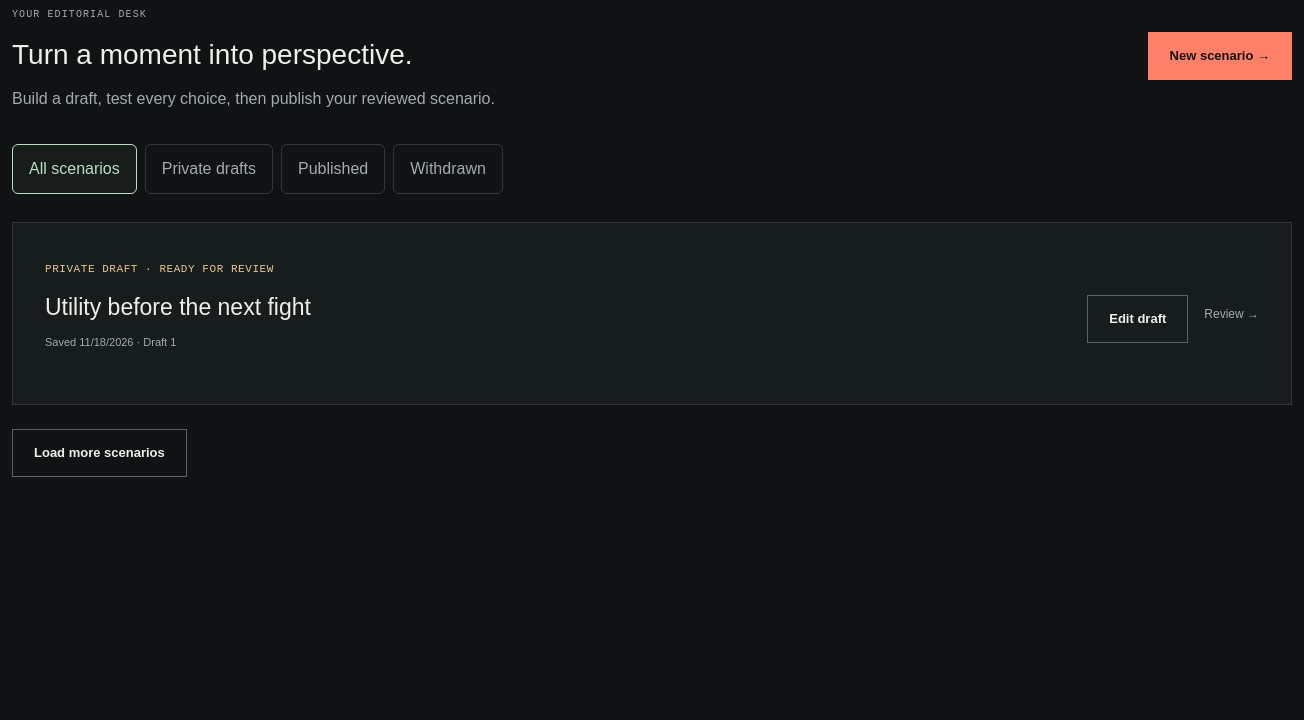
Test: creator dashboard › appends unique rows on pagination
Click the button "Load more scenarios" at (99, 453), box top-left (12, 429), bottom-right (187, 477)
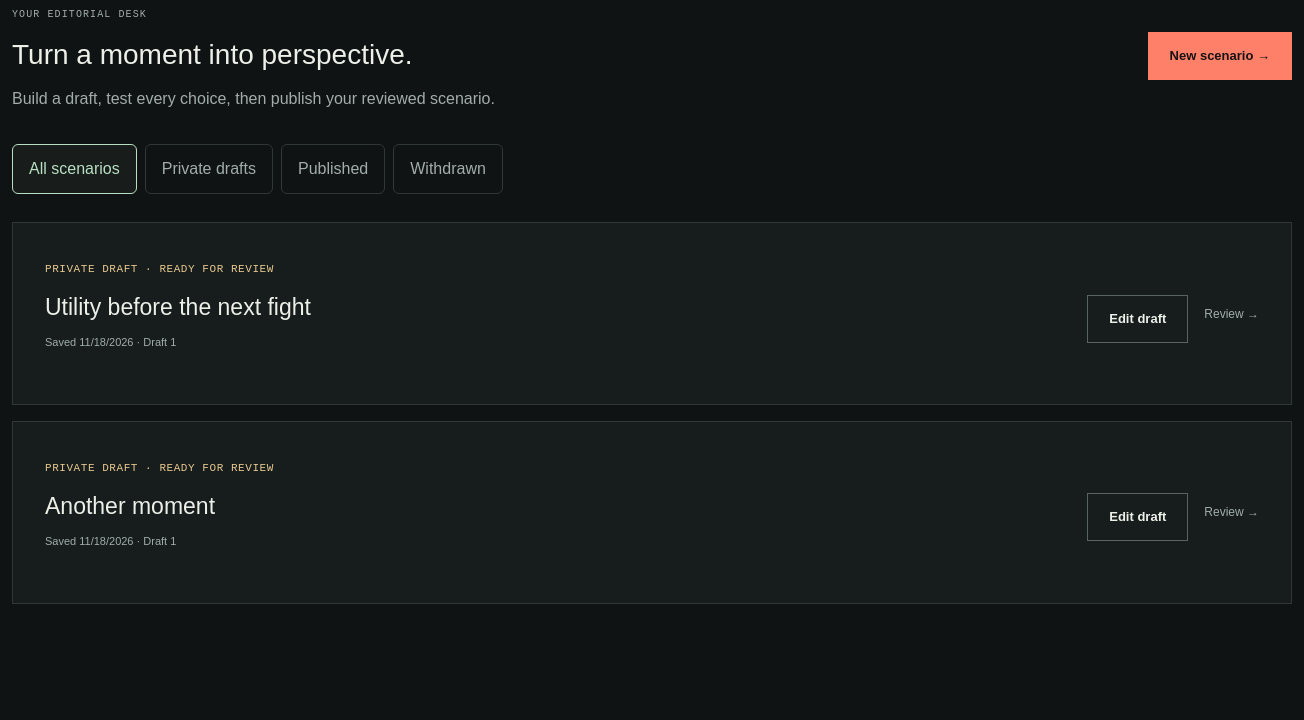
Check: the number of links "Utility before the next fight" is 1, box top-left (45, 294), bottom-right (311, 320)
Check: the link "Another moment" is shown, box top-left (45, 493), bottom-right (215, 519)
